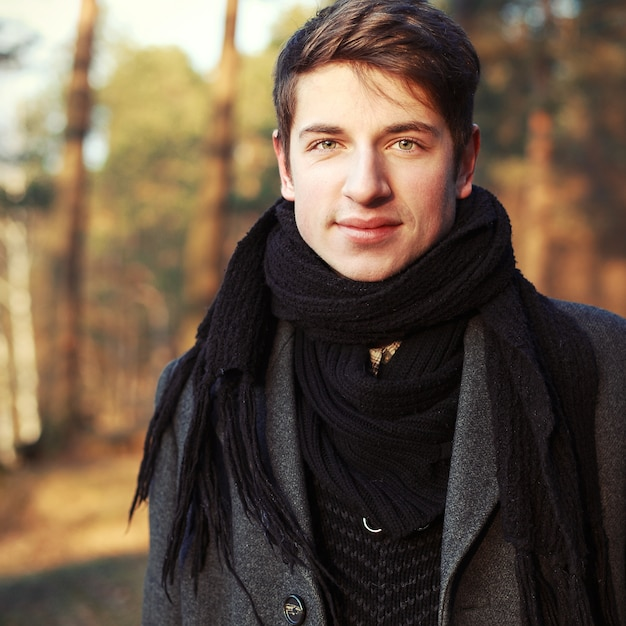teen: (278, 12, 493, 301)
